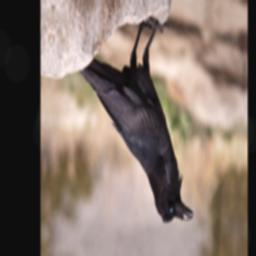Crow: (70, 5, 205, 236)
